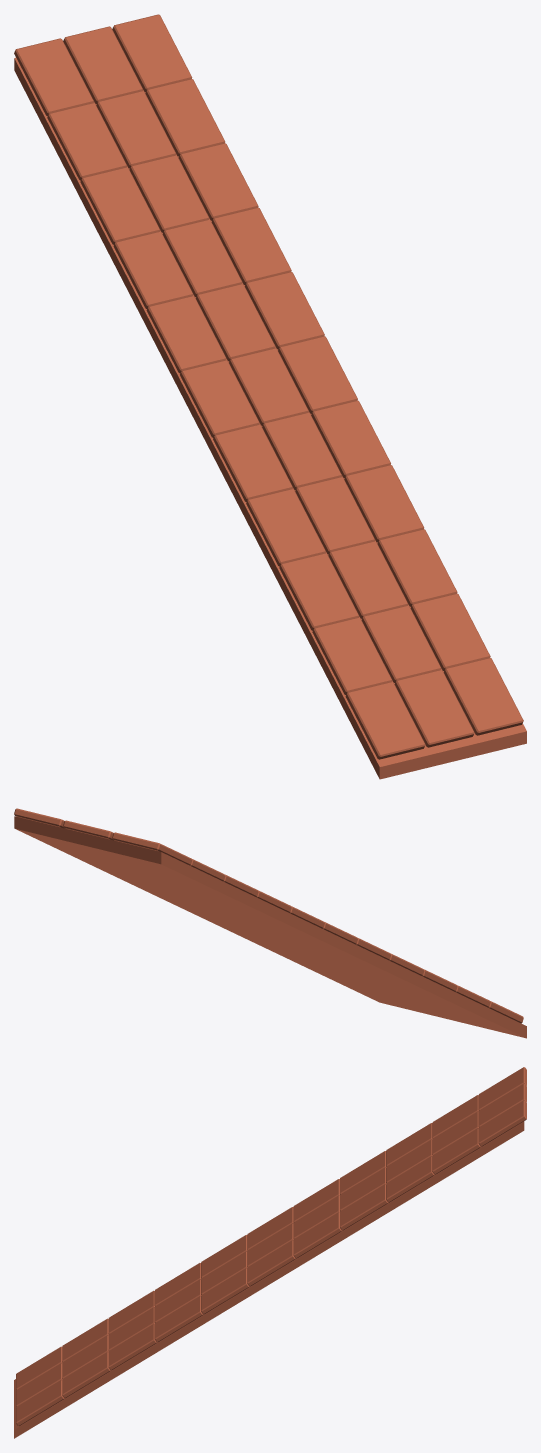
Rendered from SM_WL_RoofPanel8mSpan1m.fbx.
3 renders of one model, top to bottom at view 1: azimuth 30°, elevation 25°; view 2: azimuth 150°, elevation 25°; view 3: azimuth 270°, elevation 25°, orthographic. The views are drawn at different scales.
Parts seen in each view (by area): view 1: SM_WL_RoofPanel8mSpan1m; view 2: SM_WL_RoofPanel8mSpan1m; view 3: SM_WL_RoofPanel8mSpan1m.
Boxes of the visible parts, box(x1,y1,x2,y2) form: SM_WL_RoofPanel8mSpan1m: box(14, 14, 526, 779); SM_WL_RoofPanel8mSpan1m: box(14, 808, 526, 1038); SM_WL_RoofPanel8mSpan1m: box(14, 1067, 526, 1438).
Bounding box in the file's own units: 4.32 × 1 × 3.
